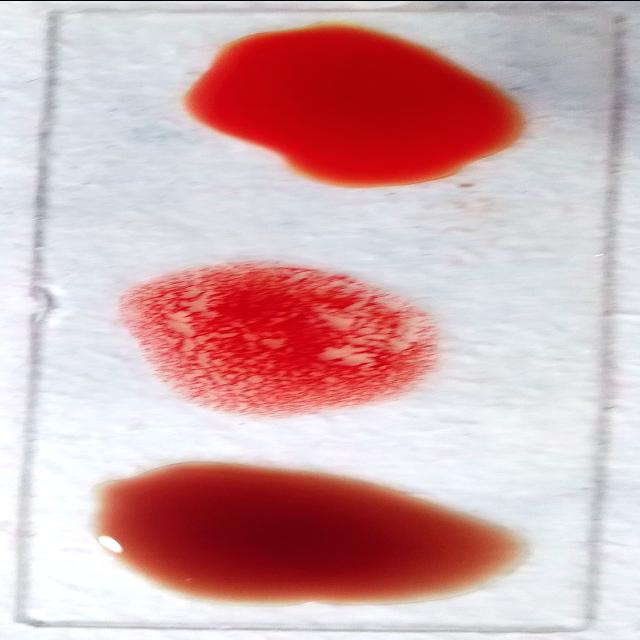D: (130, 265, 442, 412)
